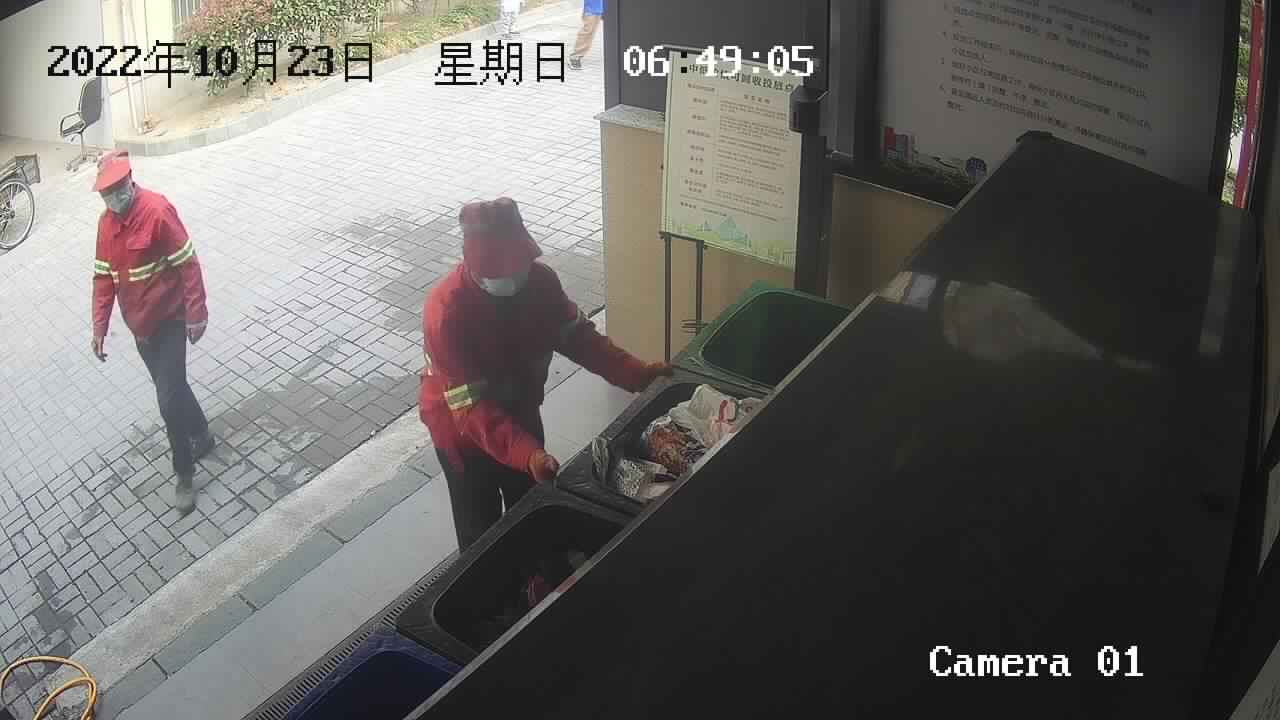worker: (409, 192, 678, 558), (80, 143, 216, 519)
